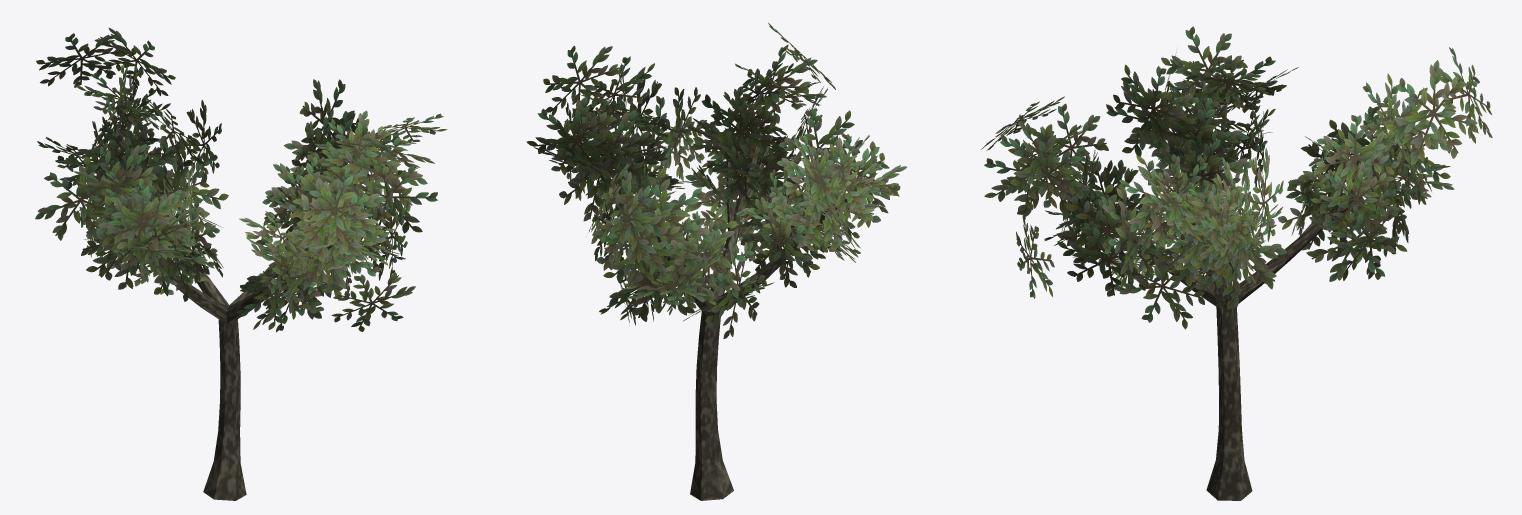
The model's file is canopy-olive.lod1.glb.
3 views of the same model, side by side, from view 1: azimuth 30°, elevation 25°; view 2: azimuth 150°, elevation 25°; view 3: azimuth 270°, elevation 25° (orthographic). The views are drawn at different scales.
Parts seen in each view (by area): view 1: canopy_olive_mesh; view 2: canopy_olive_mesh; view 3: canopy_olive_mesh.
Boxes of the visible parts, x1,y1,x2,y2 form: canopy_olive_mesh: [35, 28, 447, 500]; canopy_olive_mesh: [526, 22, 906, 500]; canopy_olive_mesh: [981, 26, 1492, 500].
Bounding box in the file's own units: 5.39 × 5.51 × 6.25.
Materials: 2 (2 with a texture image).
